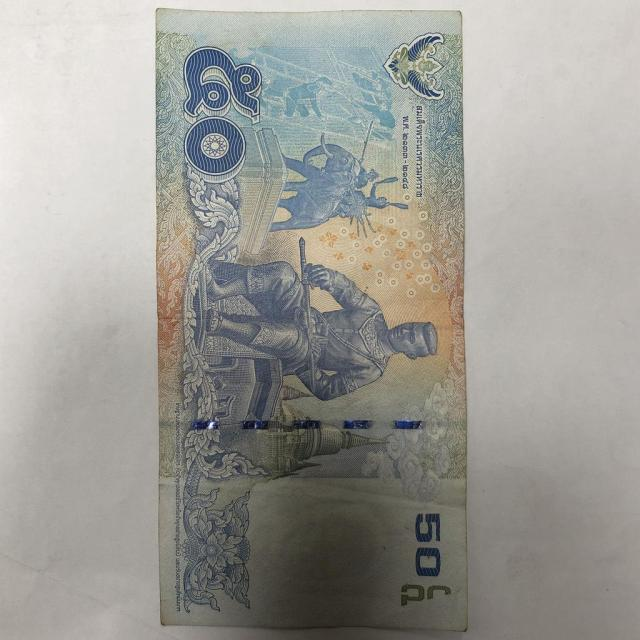THAI50: (156, 8, 466, 629)
